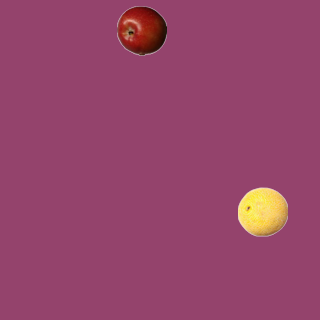Apple Braeburn: (116, 5, 166, 55)
Cantaloupe 1: (237, 186, 287, 236)
